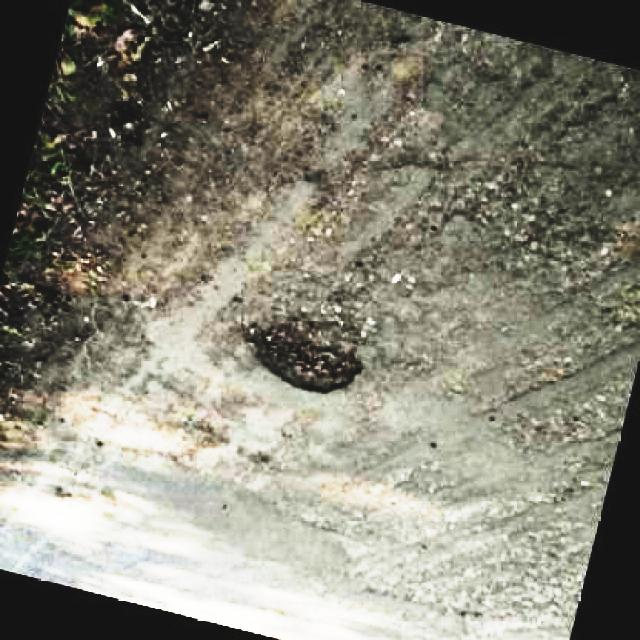pothole: (246, 317, 366, 397)
